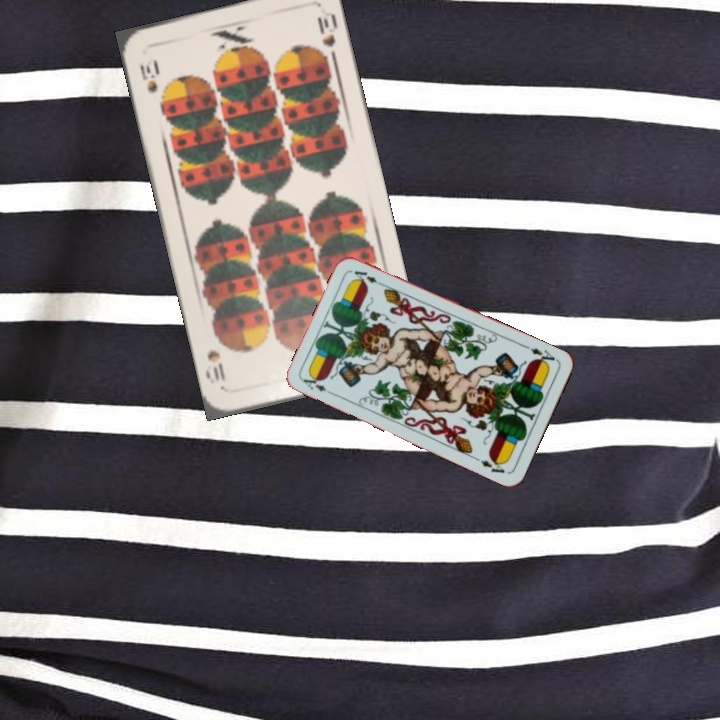EA: (299, 371, 337, 398), (526, 344, 560, 368)
S10: (135, 56, 160, 95)
